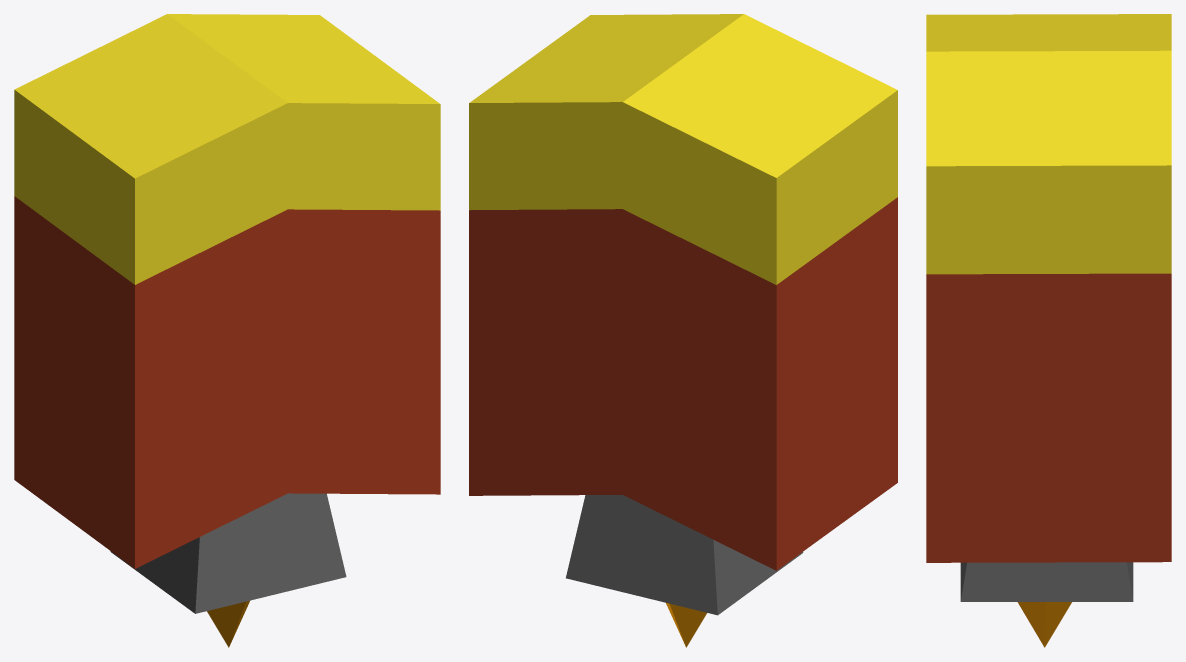
File: jetpack.glb
3 renders of one model, left to right at view 1: azimuth 30°, elevation 25°; view 2: azimuth 150°, elevation 25°; view 3: azimuth 270°, elevation 25°, orthographic.
Visible parts, largest first — view 1: mesh, fire; view 2: mesh, fire; view 3: mesh, fire.
Boxes of the visible parts, x1,y1,x2,y2 form: mesh: (14, 14, 440, 613); fire: (207, 600, 249, 647); mesh: (469, 14, 897, 615); fire: (666, 603, 706, 647); mesh: (926, 14, 1171, 601); fire: (1017, 602, 1071, 647).
Size of the model in its own units: 0.5134 by 0.9443 by 0.3511.
1 material, 1 textured.
